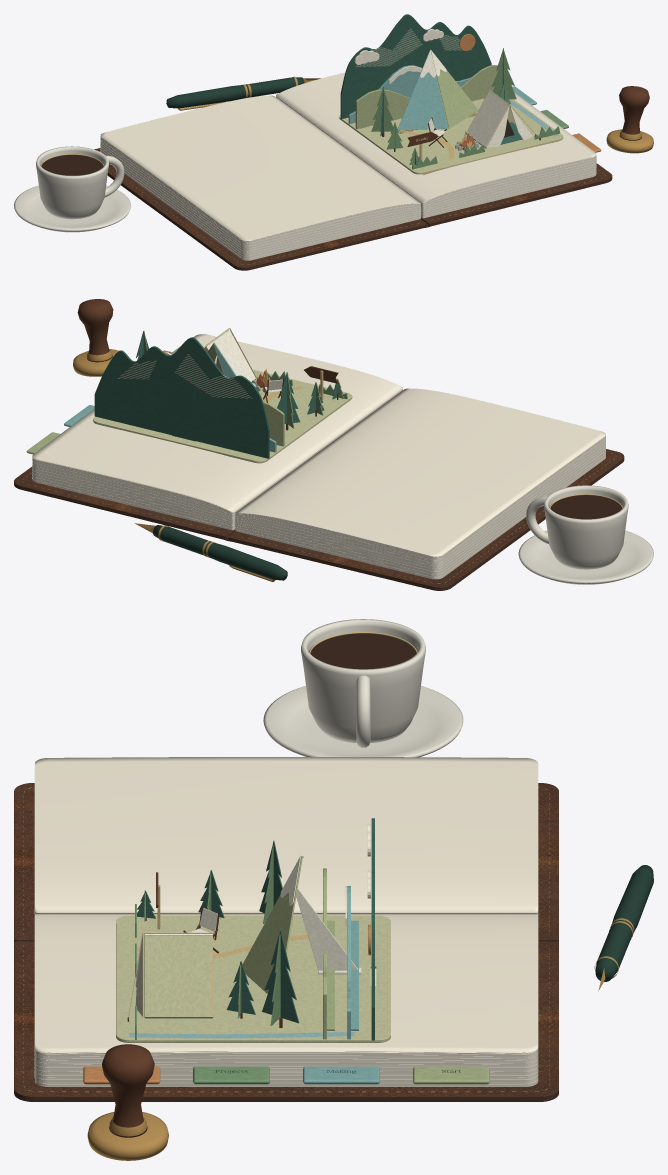
File: desk-scene.glb
3 renders of one model, top to bottom at view 1: azimuth 30°, elevation 25°; view 2: azimuth 150°, elevation 25°; view 3: azimuth 270°, elevation 25°, orthographic. The views are drawn at different scales.
Visible parts, largest first — view 1: PageLeft, TurningLeaf, PageBlockLeft, SkyCard, LandscapeBase, PageBlockRight, LeatherCoverLeft, Cup, Saucer, ForestHills, LeatherCoverRight, FoldedMountainLeft (+10 smaller); view 2: PageLeft, TurningLeaf, SkyCard, PageBlockLeft, PageBlockRight, LeatherCoverLeft, Cup, Saucer, LandscapeBase, LeatherCoverRight, PenBarrel, StampHandle (+7 smaller); view 3: PageLeft, TurningLeaf, LandscapeBase, LeatherCoverRight, PageBlockRight, Cup, Saucer, LeatherCoverLeft, TentRightRoof, StampHandle, CoffeeSurface, PenBarrel (+11 smaller).
Part boxes in pixels (box(x1,y1,x2,y2)): PageLeft: box(100, 95, 420, 241); TurningLeaf: box(276, 72, 596, 202); PageBlockLeft: box(100, 136, 420, 260); SkyCard: box(340, 14, 491, 119); LandscapeBase: box(339, 98, 563, 174); PageBlockRight: box(276, 96, 596, 218); LeatherCoverLeft: box(94, 148, 426, 270); Cup: box(36, 146, 108, 219); Saucer: box(14, 185, 130, 232); ForestHills: box(355, 65, 498, 129); LeatherCoverRight: box(421, 163, 612, 226); FoldedMountainLeft: box(397, 50, 448, 130); PageLeft: box(235, 388, 605, 556); TurningLeaf: box(32, 334, 402, 512); SkyCard: box(94, 337, 269, 458); PageBlockLeft: box(235, 436, 605, 579); PageBlockRight: box(32, 389, 402, 530); LeatherCoverLeft: box(228, 449, 624, 590); Cup: box(544, 485, 628, 569); Saucer: box(518, 530, 653, 584); LandscapeBase: box(93, 369, 352, 463); LeatherCoverRight: box(14, 466, 235, 539); PenBarrel: box(153, 525, 287, 580); StampHandle: box(77, 299, 113, 362); PageLeft: box(35, 757, 538, 912); TurningLeaf: box(35, 913, 538, 1052); LandscapeBase: box(116, 915, 390, 1042); LeatherCoverRight: box(14, 941, 558, 1101); PageBlockRight: box(34, 918, 538, 1086); Cup: box(301, 619, 425, 742); Saucer: box(263, 686, 463, 757); LeatherCoverLeft: box(14, 783, 558, 941); TentRightRoof: box(144, 935, 212, 1016); StampHandle: box(102, 1044, 154, 1137); CoffeeSurface: box(309, 633, 417, 669); PenBarrel: box(595, 865, 653, 981).
Size of what is drawn, in the model's own units: 10.06 by 2.02 by 5.82.
Materials: 31 (14 with a texture image).
